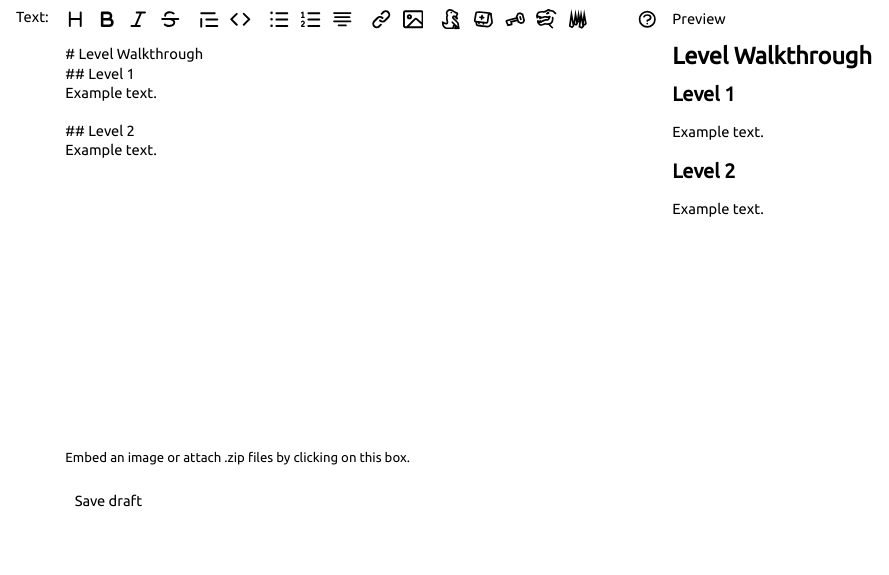
WalkthroughForm › shows a per-field error and does not submit when the text is empty
The image size is (889, 575).
Clear the text box at (362, 241), box [58, 37, 665, 446]
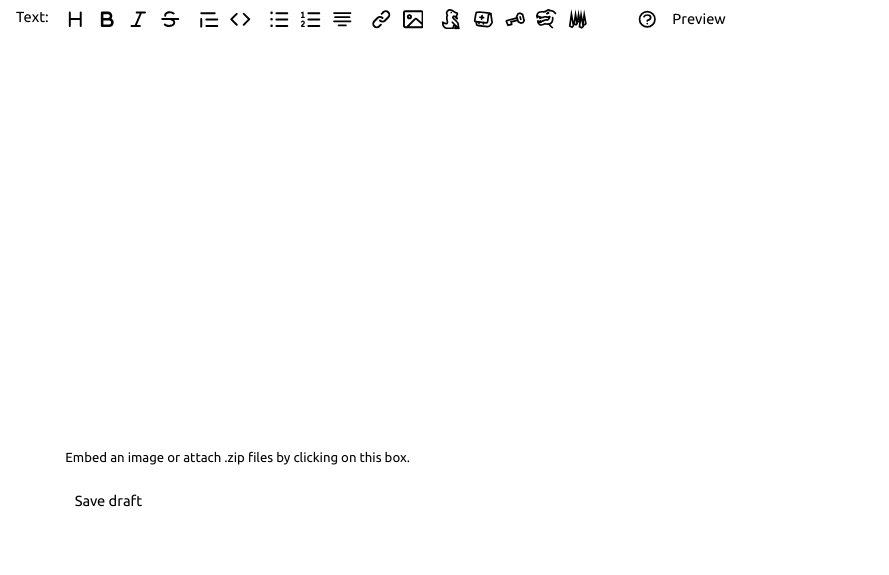
Click the button "Save draft".
click(108, 501)  # box [58, 484, 159, 517]
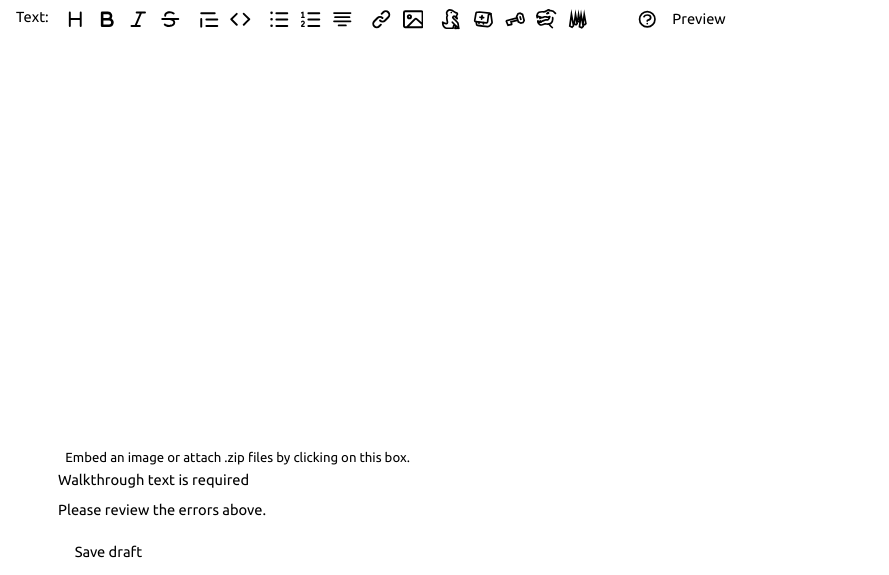
Now the text "Walkthrough text is required" is shown, box [58, 471, 249, 488]
